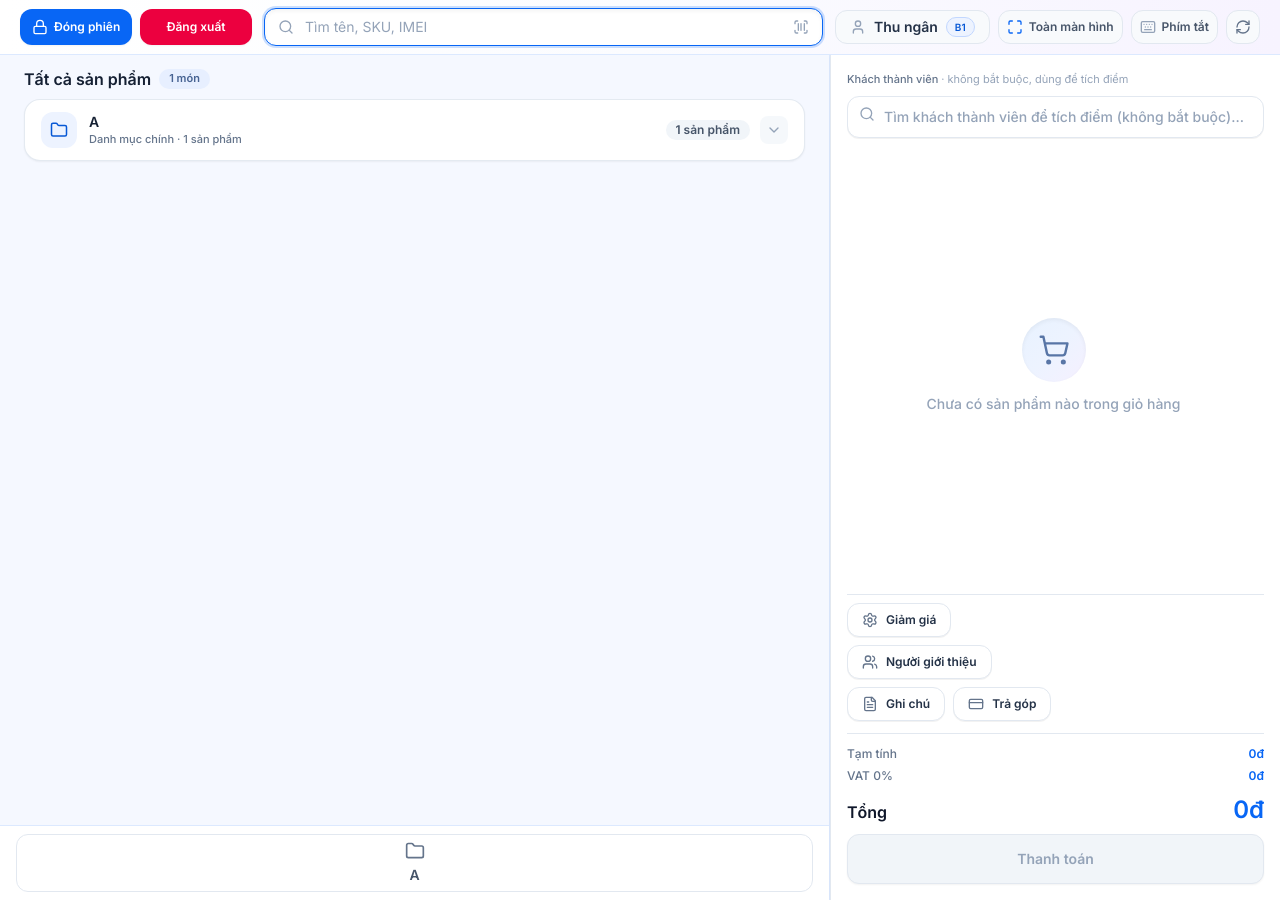
RetailPosPage › does not add a serial product when the picker is error
The width and height of the screenshot is (1280, 900).
Click the button "A Danh mục chính · 1 sản phẩm 1 sản phẩm": (59, 130) [25,100,804,160]
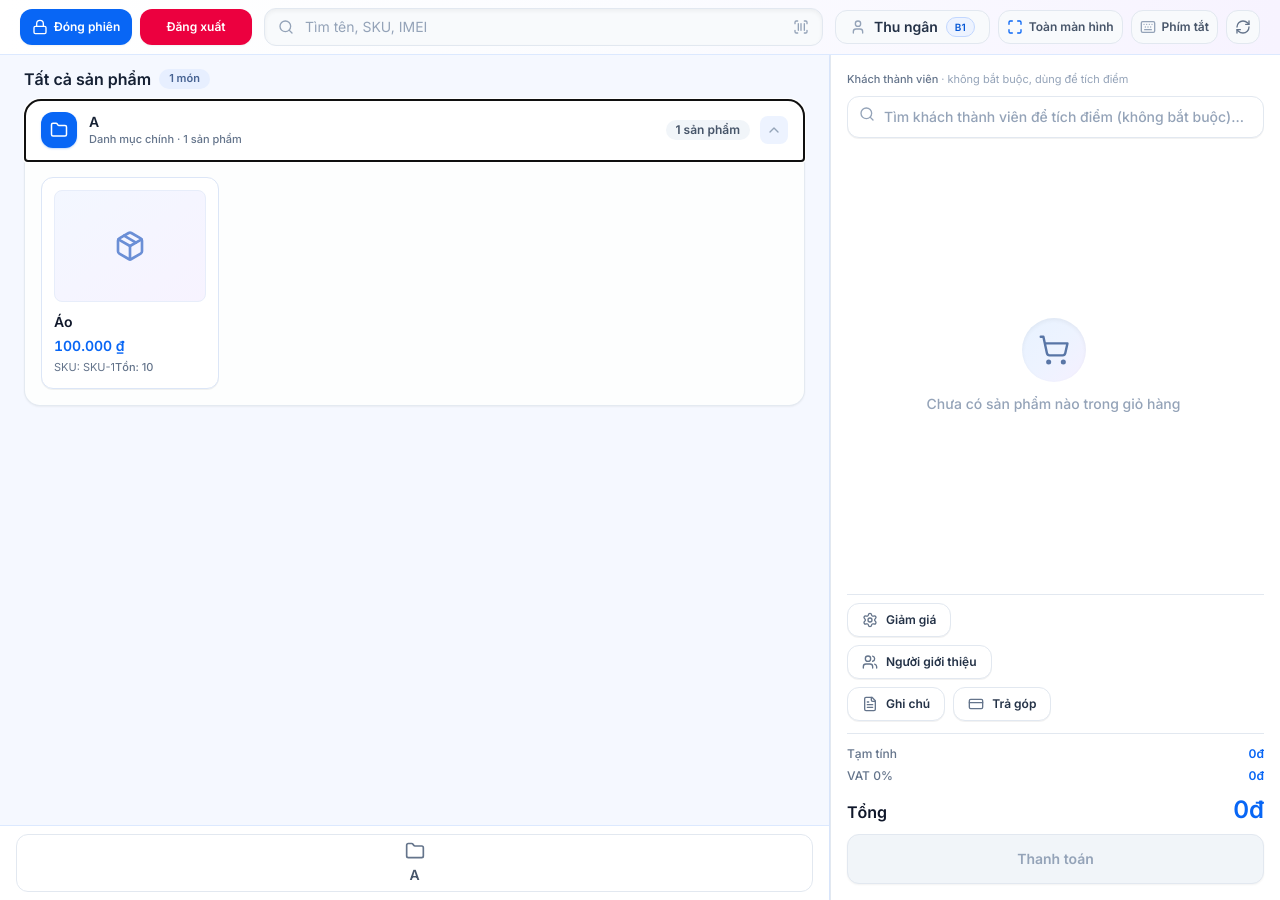
Click the button "Áo 100.000 ₫ SKU: SKU-1 Tồn: 10": (130, 283) [54,190,206,376]
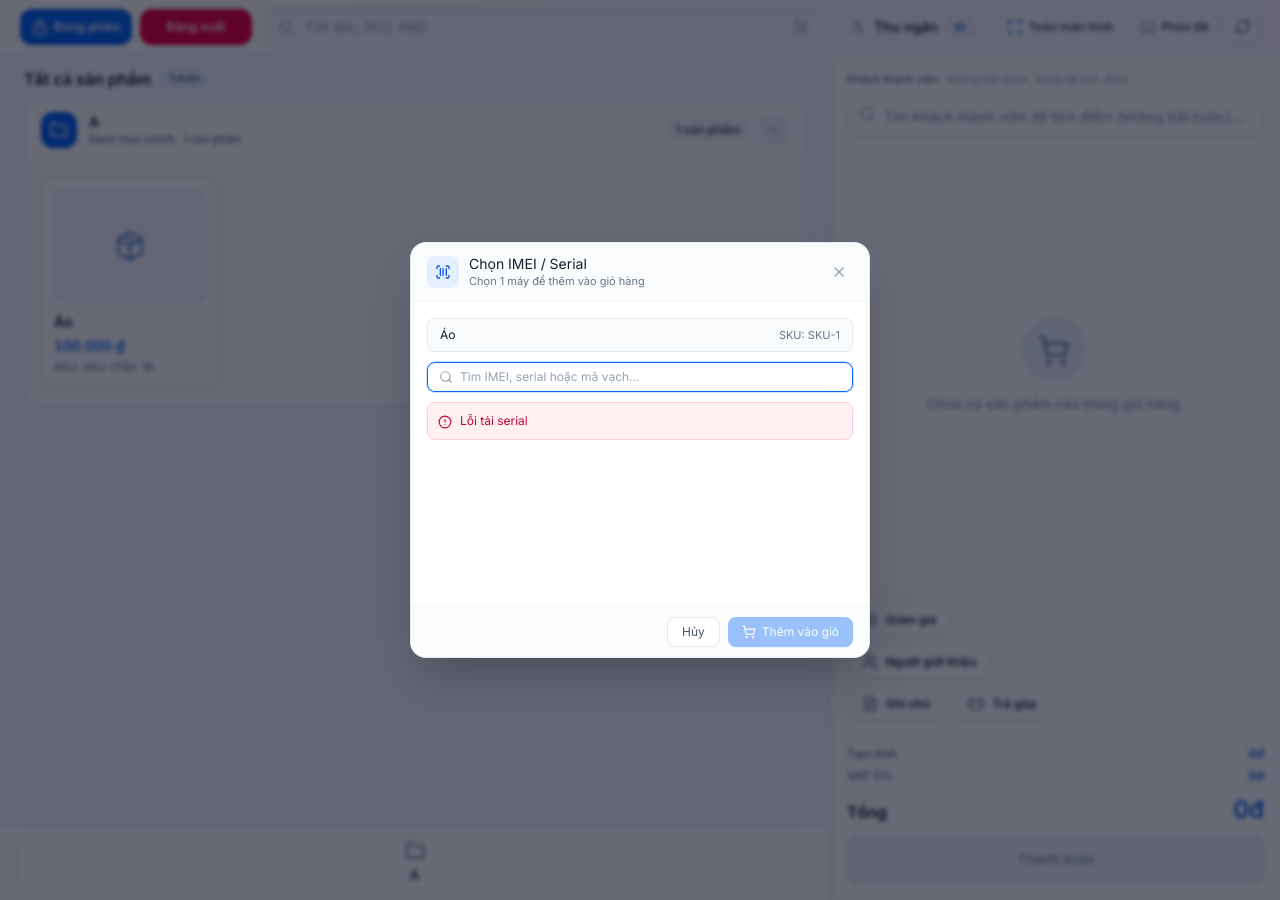
Expected: the text "Lỗi tải serial" is shown, [460,413,528,429]
Expected: the button "Thêm vào giỏ" is disabled, [728,617,853,647]
